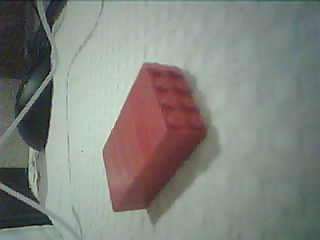lego: (102, 62, 207, 212)
